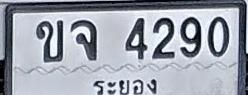0: (208, 16, 228, 57)
2: (152, 18, 174, 58)
4: (125, 17, 147, 59)
9: (180, 16, 201, 57)
A02: (36, 20, 63, 62)
A08: (70, 19, 97, 60)
RYG: (89, 75, 162, 95)
